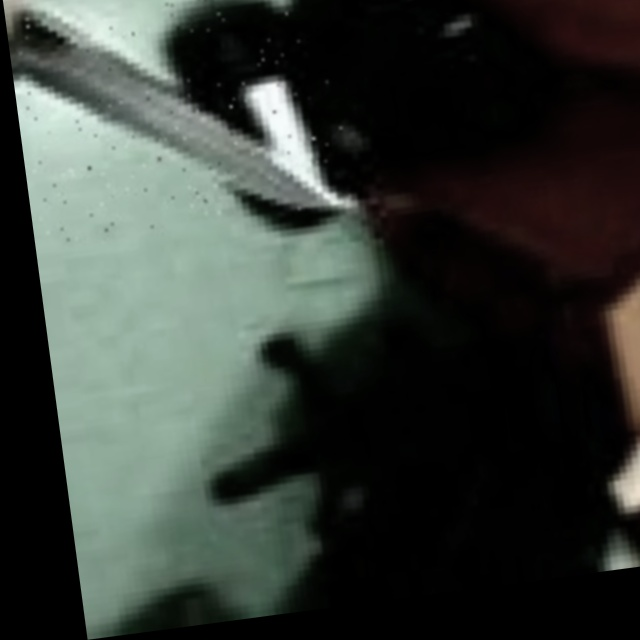Sharp-Object: (11, 0, 352, 244)
